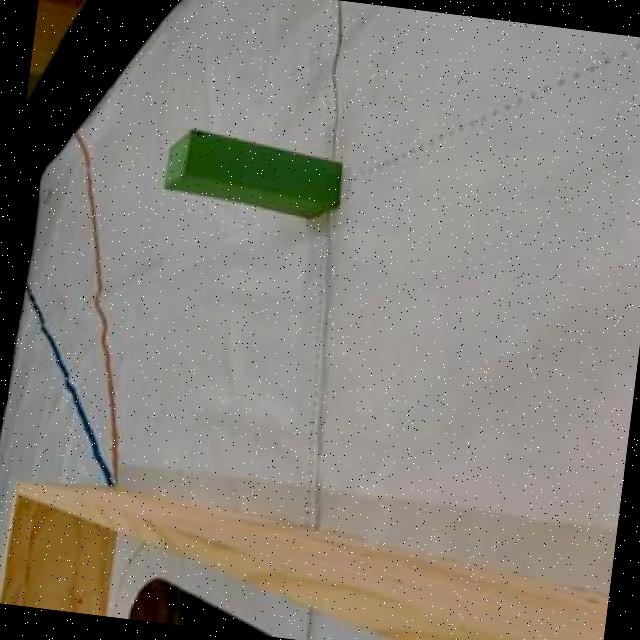greenbox: (159, 128, 347, 228)
